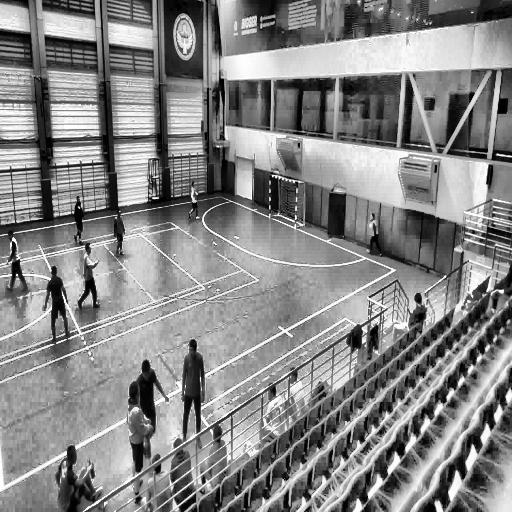ball: (368, 222, 373, 228)
player: (127, 386, 154, 500), (181, 338, 205, 444), (45, 266, 70, 342), (78, 241, 100, 310), (6, 230, 28, 293), (74, 198, 85, 243), (114, 208, 124, 256), (368, 212, 379, 254), (188, 181, 198, 221)
